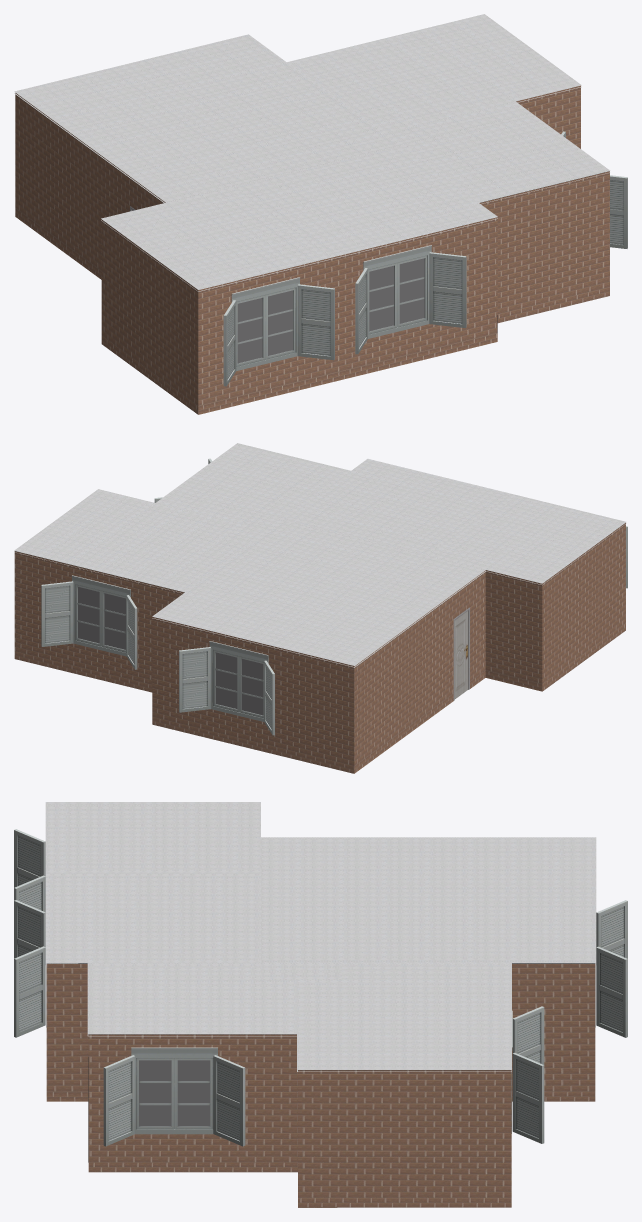
Rendered from house_0120101.FBX.
The picture shows the model from 3 angles, top to bottom: view 1: azimuth 30°, elevation 25°; view 2: azimuth 150°, elevation 25°; view 3: azimuth 270°, elevation 25°; orthographic projection. The views are drawn at different scales.
Parts seen in each view (by area): view 1: house_0120101_roof_100_00, house_0120101_outwall_100_03, house_0120101_outwall_100_05, house_0120101_outwall_100_00, house_0120101_outwall_100_02, house_0120101_floor_102_00, house_0120101_floor_103_00, house_0120101_tcx_100_03, house_0120101_outwall_100_07, house_0120101_floor_104_00, house_0120101_tcx_100_04, house_0120101_tcx_100_02 (+1 smaller); view 2: house_0120101_roof_100_00, house_0120101_outwall_100_011, house_0120101_outwall_100_00, house_0120101_outwall_100_02, house_0120101_outwall_100_09, house_0120101_floor_105_00, house_0120101_floor_101_00, house_0120101_outwall_100_01, house_0120101_tcx_100_010, house_0120101_outwall_101_00, house_0120101_tcx_100_08, house_0120101_tcx_100_00 (+2 smaller); view 3: house_0120101_roof_100_00, house_0120101_outwall_100_08, house_0120101_outwall_100_06, house_0120101_floor_104_00, house_0120101_outwall_100_010, house_0120101_outwall_100_04, house_0120101_floor_105_00, house_0120101_floor_101_00, house_0120101_floor_103_00, house_0120101_tcx_100_05, house_0120101_floor_102_00, house_0120101_tcx_100_07.
Part boxes in pixels (x1,y1,x2,y2): house_0120101_roof_100_00: (14,14,610,291); house_0120101_outwall_100_03: (198,217,497,405); house_0120101_outwall_100_05: (479,171,609,314); house_0120101_outwall_100_00: (15,93,165,270); house_0120101_outwall_100_02: (101,220,198,405); house_0120101_floor_102_00: (223,277,334,386); house_0120101_floor_103_00: (355,245,466,354); house_0120101_tcx_100_03: (198,333,497,414); house_0120101_outwall_100_07: (516,85,580,148); house_0120101_floor_104_00: (561,131,627,248); house_0120101_tcx_100_04: (497,287,609,323); house_0120101_tcx_100_02: (101,336,198,414); house_0120101_roof_100_00: (14,443,626,667); house_0120101_outwall_100_011: (152,617,354,765); house_0120101_outwall_100_00: (354,570,485,765); house_0120101_outwall_100_02: (542,523,625,683); house_0120101_outwall_100_09: (14,551,184,684); house_0120101_floor_105_00: (41,575,137,669); house_0120101_floor_101_00: (179,641,274,735); house_0120101_outwall_100_01: (485,570,542,683); house_0120101_tcx_100_010: (152,717,354,773); house_0120101_outwall_101_00: (453,607,469,700); house_0120101_tcx_100_08: (14,651,152,692); house_0120101_tcx_100_00: (354,670,485,773); house_0120101_roof_100_00: (45,802,596,1071); house_0120101_outwall_100_08: (298,1070,511,1197); house_0120101_outwall_100_06: (88,1034,297,1162); house_0120101_floor_104_00: (103,1047,245,1146); house_0120101_outwall_100_010: (512,964,595,1091); house_0120101_outwall_100_04: (46,964,88,1091); house_0120101_floor_105_00: (511,1006,544,1143); house_0120101_floor_101_00: (595,900,627,1037); house_0120101_floor_103_00: (14,900,46,1037); house_0120101_tcx_100_05: (88,1162,297,1172); house_0120101_floor_102_00: (14,829,45,911); house_0120101_tcx_100_07: (298,1198,511,1207).
Size of the model in its own units: 1210 by 291 by 1173.
58 materials, 57 textured.
